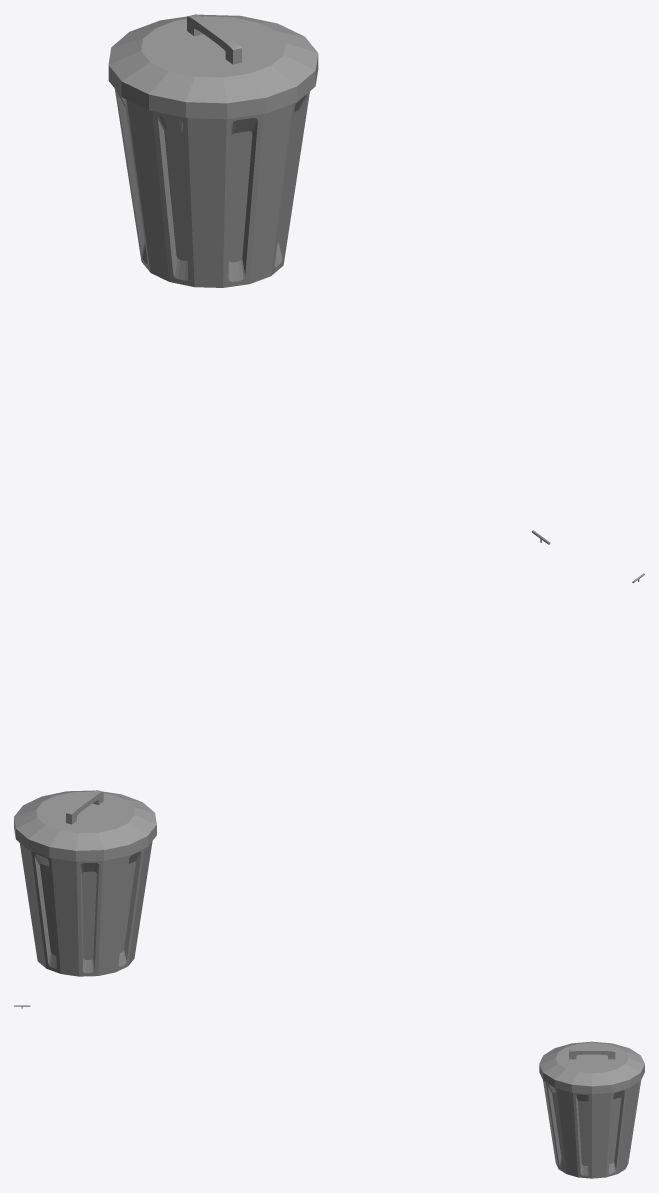
File: buildig.003_metal_(scratched)_0_lev3.glb
The picture shows the model from 3 angles, top to bottom: view 1: azimuth 30°, elevation 25°; view 2: azimuth 150°, elevation 25°; view 3: azimuth 270°, elevation 25°; orthographic projection. The views are drawn at different scales.
Parts seen in each view (by area): view 1: buildig.003_metal_(scratched)_0_lev3; view 2: buildig.003_metal_(scratched)_0_lev3; view 3: buildig.003_metal_(scratched)_0_lev3.
Part boxes in pixels (<box>): buildig.003_metal_(scratched)_0_lev3: <box>108,14,550,544</box>; buildig.003_metal_(scratched)_0_lev3: <box>14,573,644,976</box>; buildig.003_metal_(scratched)_0_lev3: <box>14,1005,644,1178</box>.
Size of the model in its own units: 0.5831 by 0.3776 by 1.9.
Materials: 1 (1 with a texture image).
